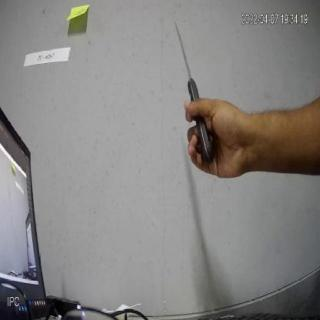knife: (167, 12, 217, 165)
